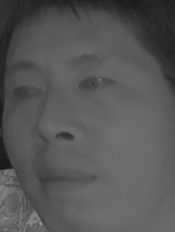eye: (75, 72, 116, 97), (11, 81, 43, 103)
mouth: (32, 163, 98, 201)
